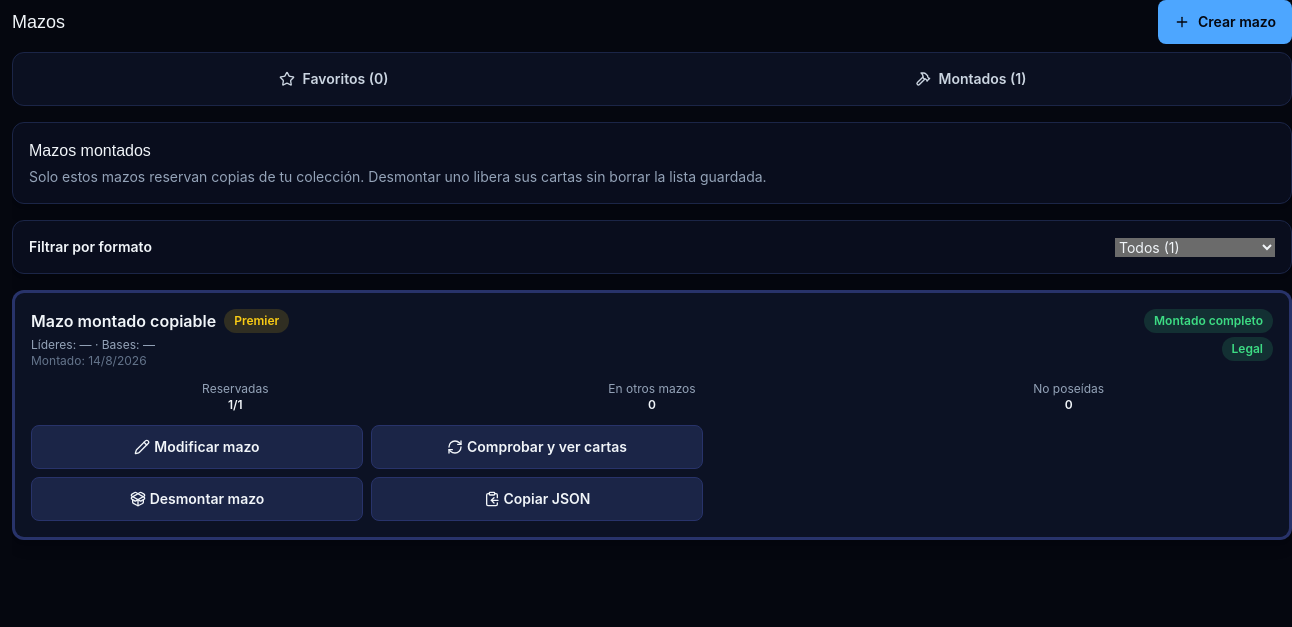
Test: Favoritos y mazos montados › permite copiar el mismo JSON desde un mazo montado
Expected: the button "Comprobar y ver cartas" is shown, [371,425,703,469]
Expected: the button "Desmontar mazo" is shown, [31,477,363,521]
Step 1. Click the button "Copiar JSON" → (537, 499), box [371,477,703,521]
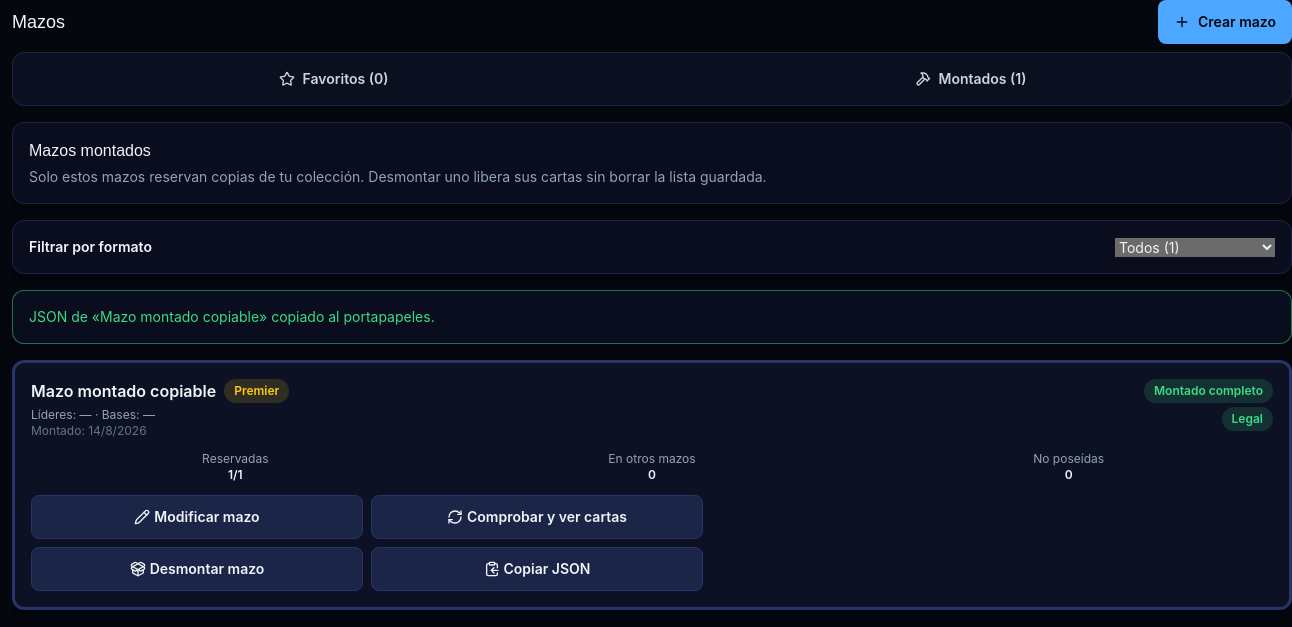
Expected: the message shows "copiado al portapapeles", [29,308,435,325]
